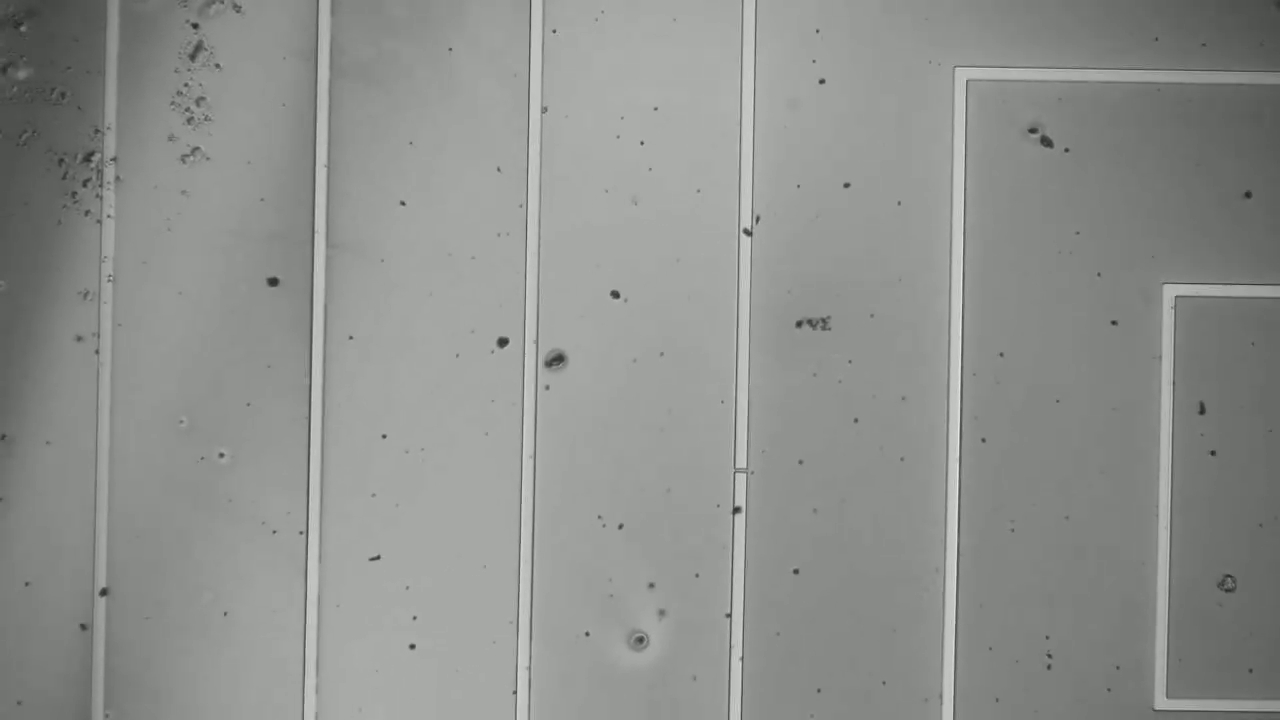open: (725, 457, 754, 481)
stains_enbedded: (83, 578, 120, 605), (733, 215, 761, 248), (723, 495, 751, 521)
